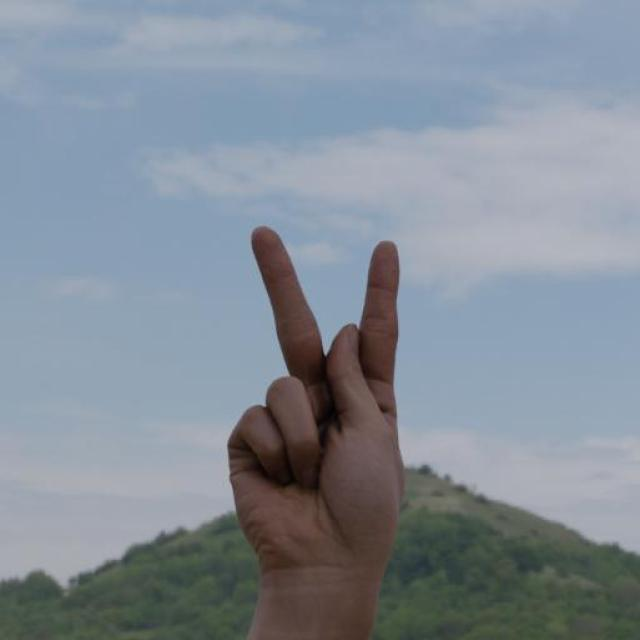K: (179, 195, 468, 606)
